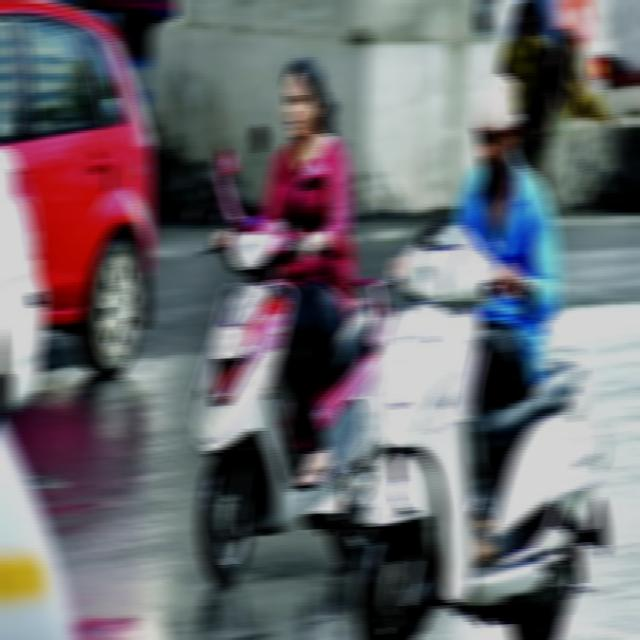Without Helmet: (467, 60, 527, 181), (273, 41, 333, 146)
